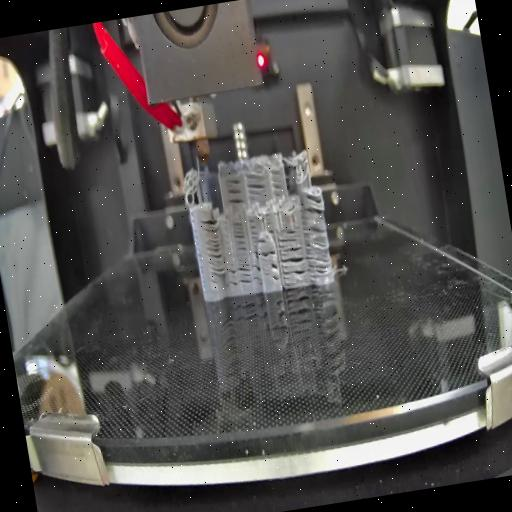cracks: (294, 188, 334, 279), (198, 216, 228, 278), (278, 245, 308, 286), (224, 258, 252, 288), (244, 172, 268, 201), (267, 169, 285, 198), (224, 178, 244, 204), (275, 222, 298, 244), (250, 250, 262, 290), (231, 219, 246, 251), (262, 212, 274, 234), (259, 244, 275, 260), (247, 216, 258, 236), (270, 263, 280, 284), (255, 238, 266, 244)
